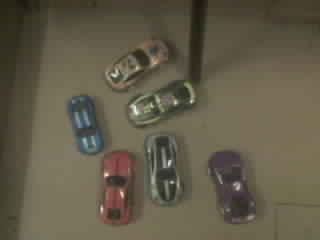Car: (209, 150, 255, 222), (127, 80, 195, 126), (106, 40, 167, 89), (144, 133, 183, 205), (99, 151, 133, 223), (68, 95, 102, 152)
